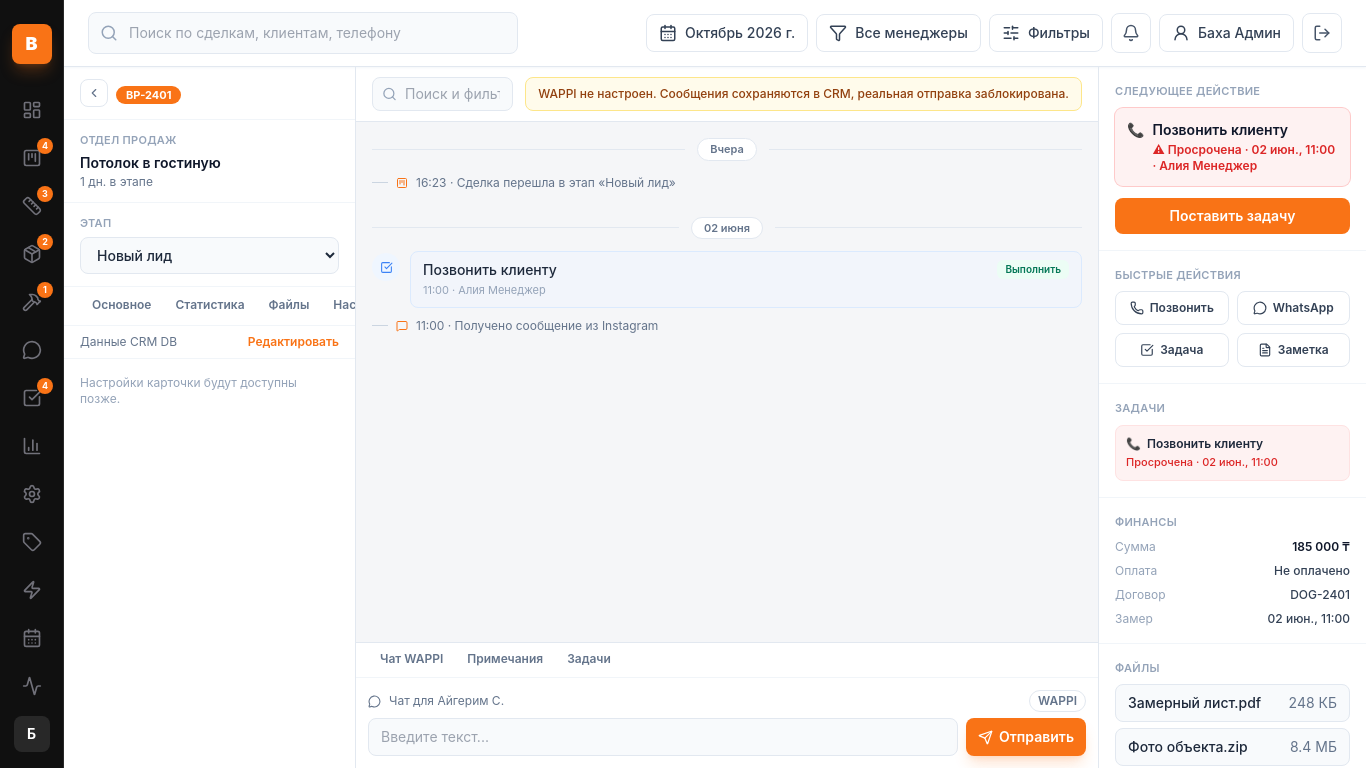
Bakha CRM smoke › shows WAPPI chat and dry-run outgoing message
The width and height of the screenshot is (1366, 768).
Expected: the text "Следующее действие" is shown, left=1115, top=84, right=1260, bottom=98
Click the button "Чат WAPPI" at (412, 660), box left=368, top=643, right=455, bottom=677
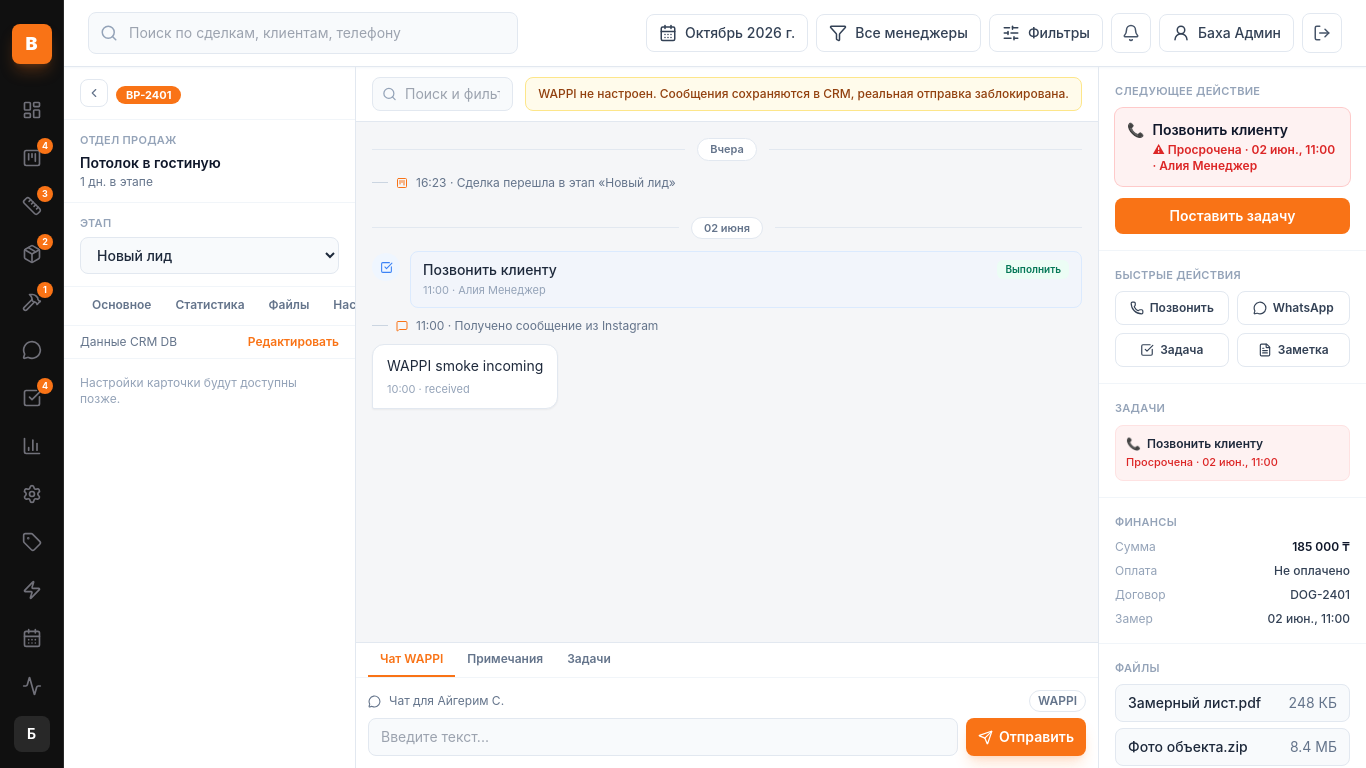
Expected: the text "WAPPI smoke incoming" is shown, left=387, top=354, right=543, bottom=377
Type "Smoke WAPPI" into the field with placeholder "Введите текст..." at (663, 737), box left=368, top=718, right=958, bottom=756
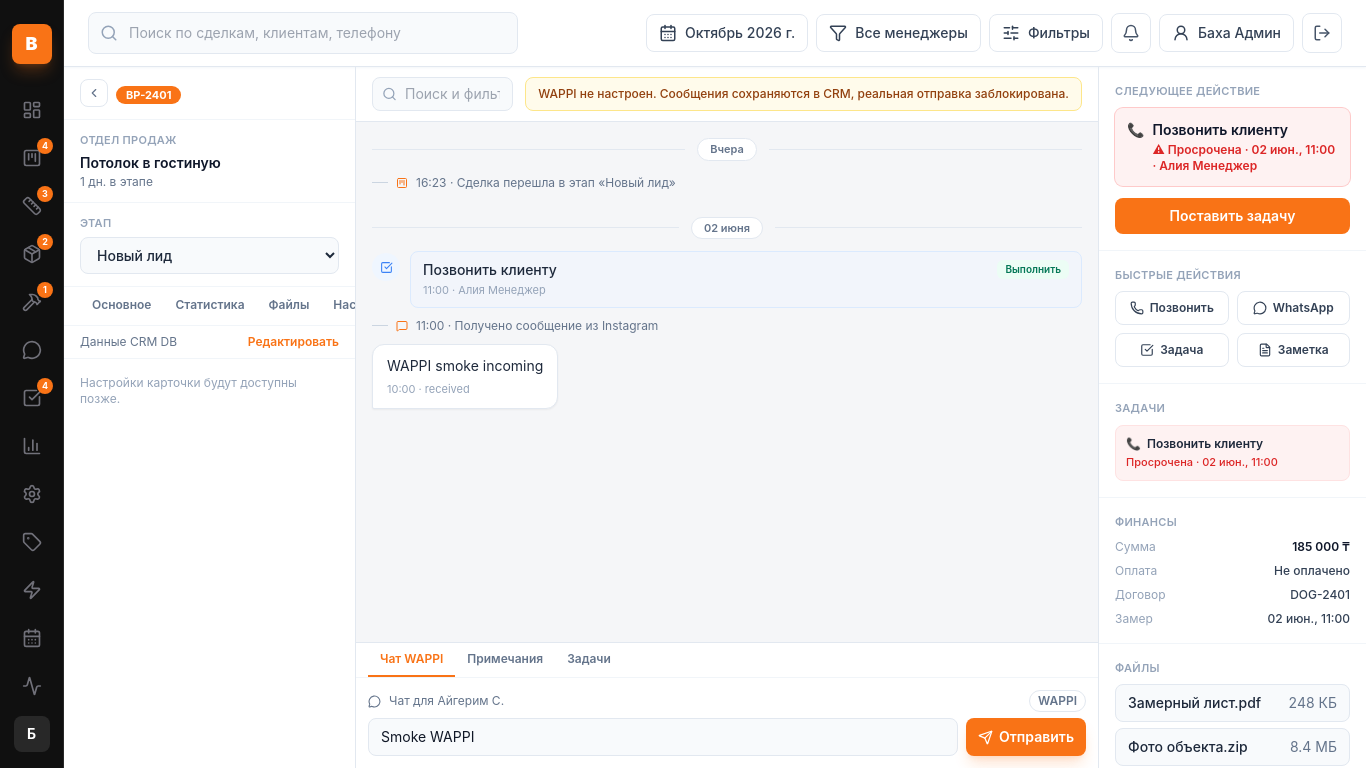
Click the button "Отправить" at (1026, 737), box left=966, top=718, right=1086, bottom=756
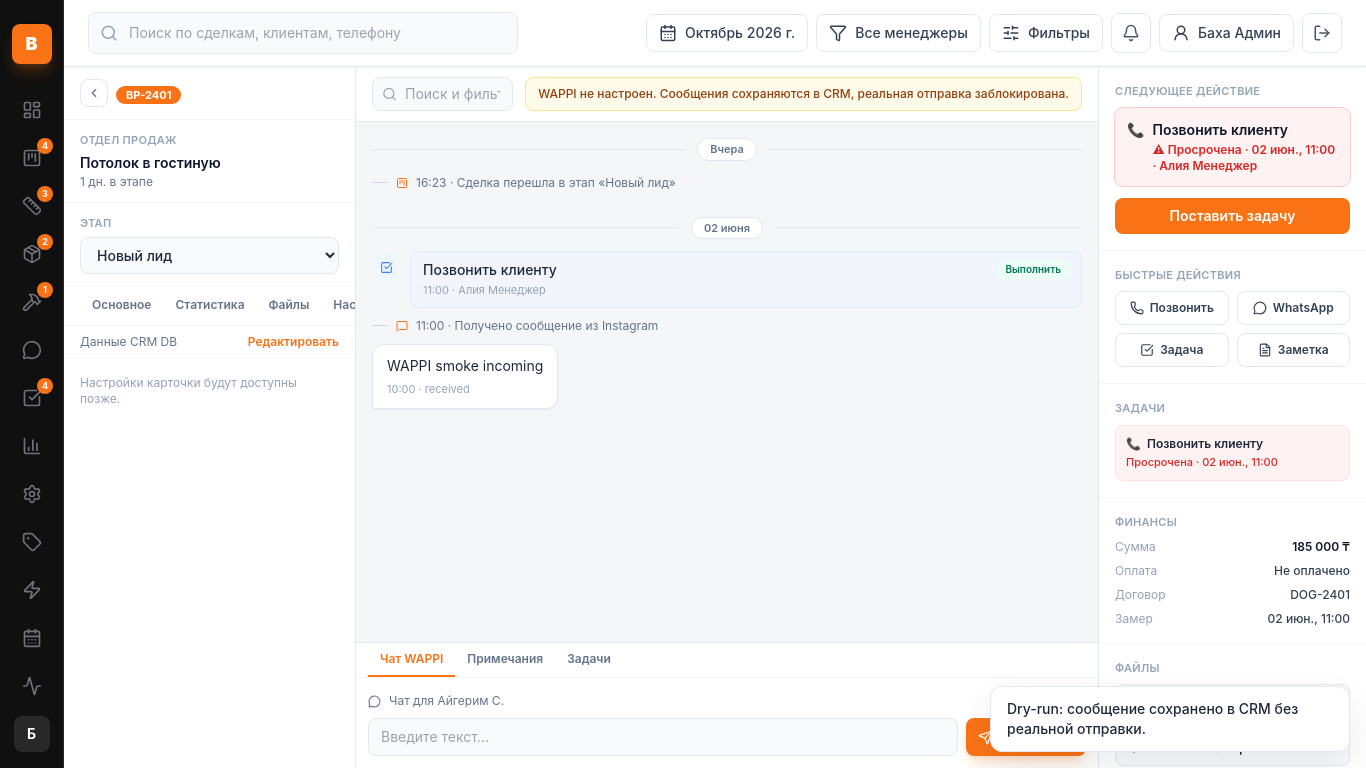
Expected: the text "Dry-run: сообщение сохранено в CRM без реальной отправки." is shown, left=990, top=686, right=1350, bottom=752
